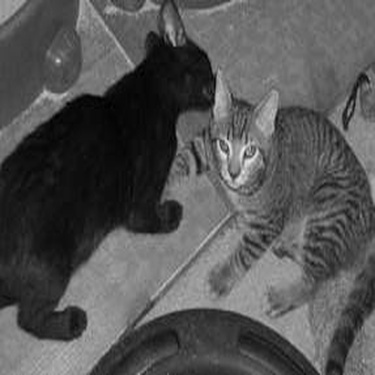cat: (4, 28, 220, 343), (161, 69, 369, 373)
